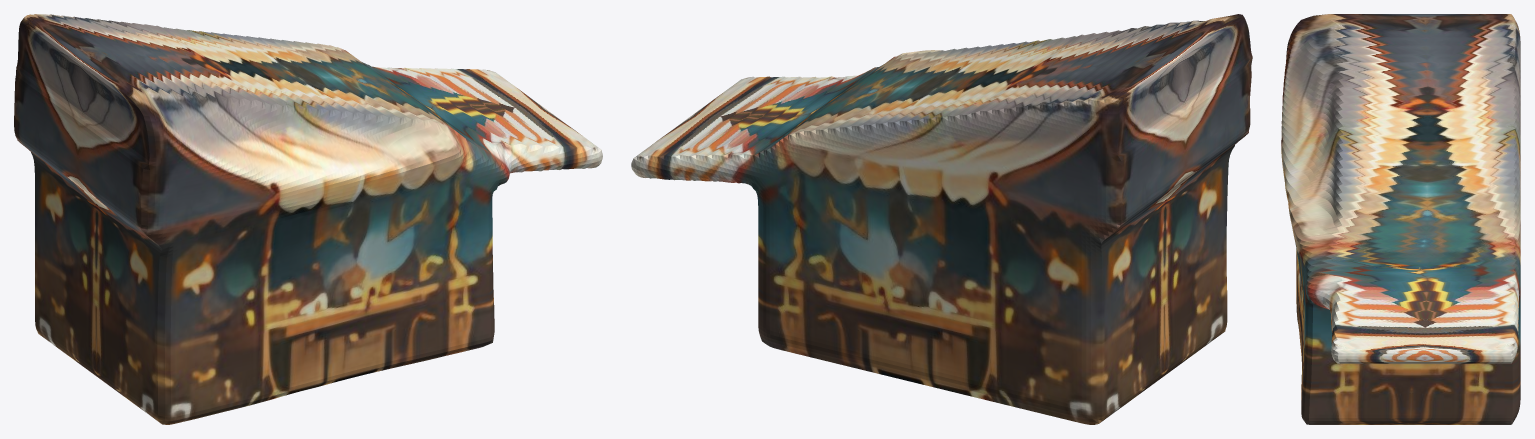
File: herb_shop_stall.glb
The picture shows the model from 3 angles, left to right: view 1: azimuth 30°, elevation 25°; view 2: azimuth 150°, elevation 25°; view 3: azimuth 270°, elevation 25°; orthographic projection. The views are drawn at different scales.
Visible parts, largest first — view 1: geometry_0; view 2: geometry_0; view 3: geometry_0.
Boxes of the visible parts, <box> form: geometry_0: <box>14,14,602,424</box>; geometry_0: <box>631,14,1252,424</box>; geometry_0: <box>1281,14,1520,424</box>.
Bounding box in the file's own units: 6.15 × 3.95 × 3.15.
Materials: 1 (1 with a texture image).
